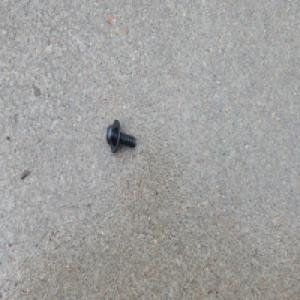BoltWasher: (106, 118, 136, 153)
